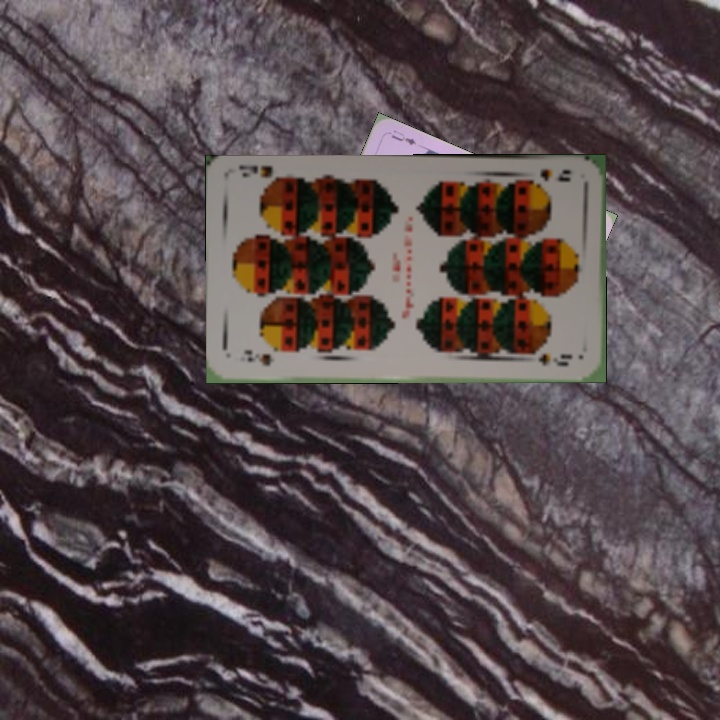S9: (520, 165, 574, 188), (241, 348, 275, 368)
